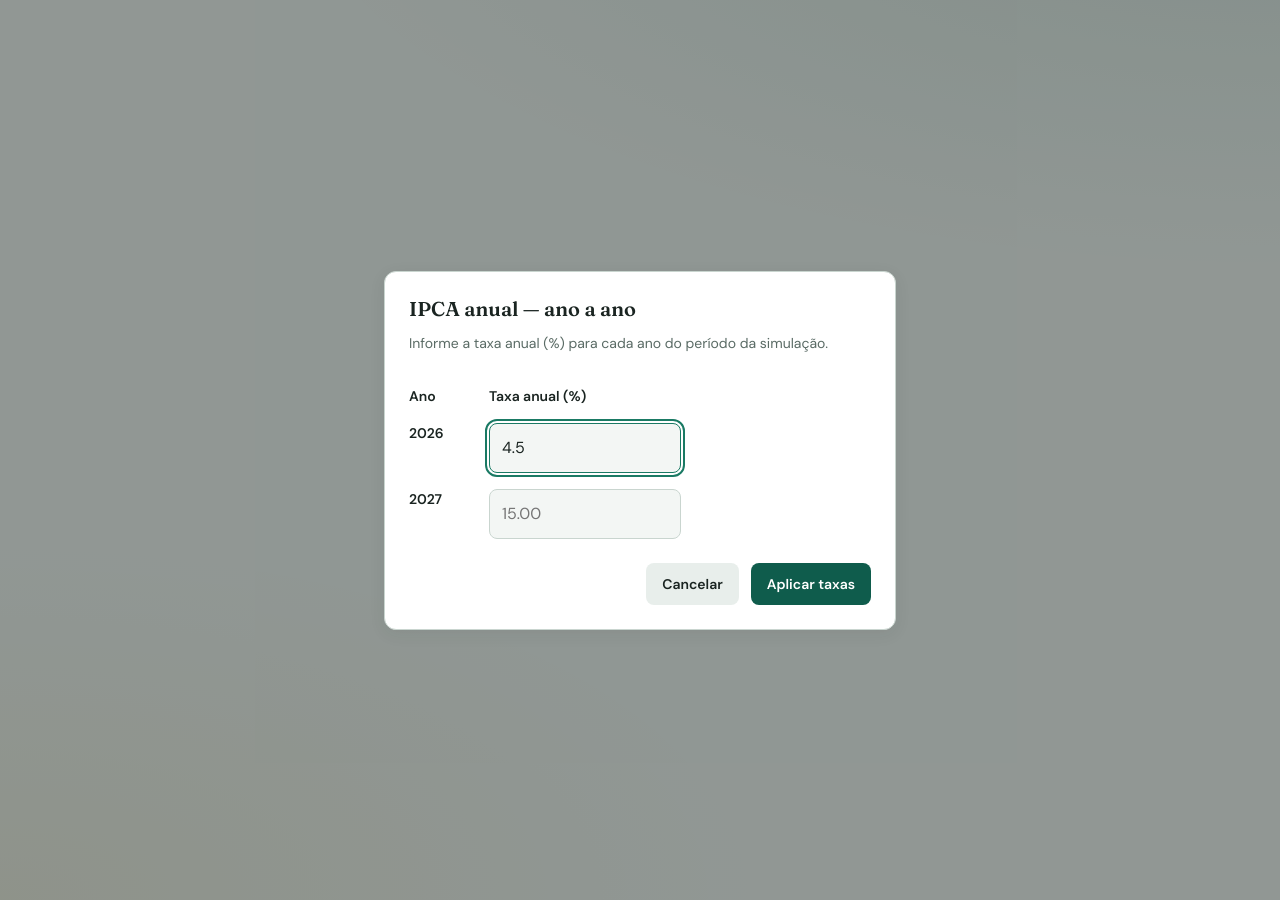
Test: PerYearRatesModal › blocks apply when a year rate is empty
Click the button "Aplicar taxas" at (811, 584), box [751,562,871,604]
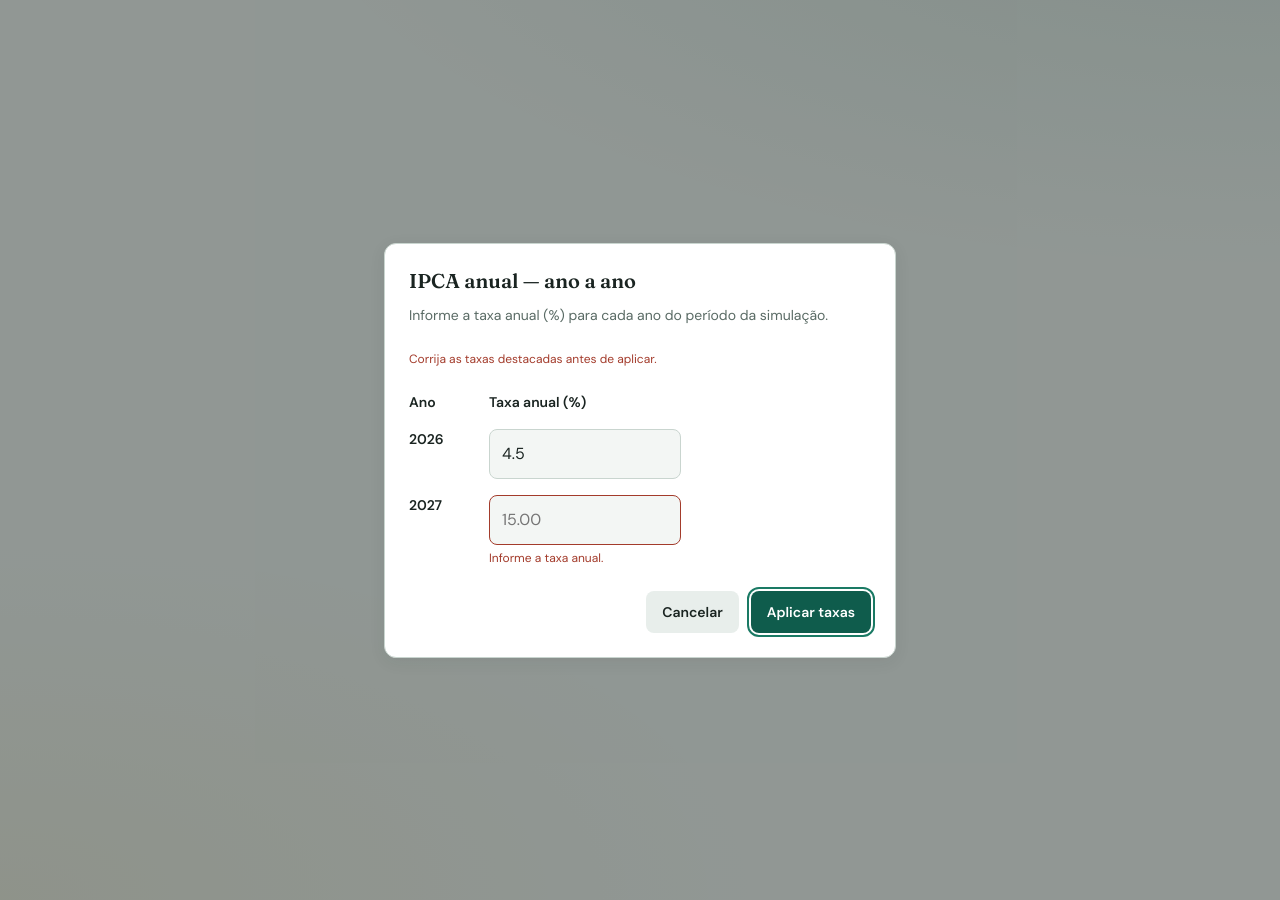
Expected: the text "Corrija as taxas destacadas antes de aplicar." is shown, [409,350,657,366]
